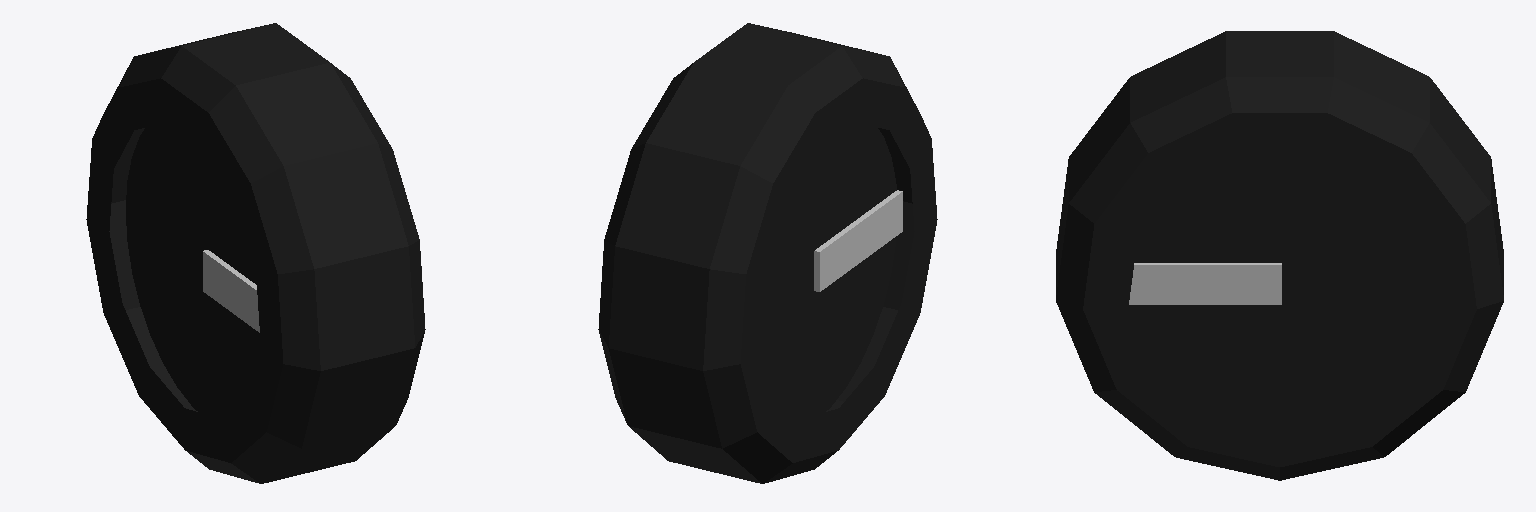
The model's file is CarWheel.obj.
3 renders of one model, left to right at view 1: azimuth 30°, elevation 25°; view 2: azimuth 150°, elevation 25°; view 3: azimuth 270°, elevation 25°, orthographic.
Visible parts, largest first — view 1: Cylinder_4.000_Cylinder_4.003, Cylinder_5.002, Cube_Cube.001; view 2: Cylinder_4.000_Cylinder_4.003, Cylinder_5.002, Cube_Cube.001; view 3: Cylinder_4.000_Cylinder_4.003, Cylinder_5.002, Cube_Cube.001.
Part boxes in pixels (left/top/right/bottom): Cylinder_4.000_Cylinder_4.003: left=86, top=23, right=425, bottom=483; Cylinder_5.002: left=126, top=123, right=259, bottom=417; Cube_Cube.001: left=203, top=250, right=259, bottom=332; Cylinder_4.000_Cylinder_4.003: left=598, top=23, right=937, bottom=483; Cylinder_5.002: left=764, top=123, right=896, bottom=417; Cube_Cube.001: left=814, top=190, right=902, bottom=291; Cylinder_4.000_Cylinder_4.003: left=1056, top=31, right=1503, bottom=480; Cylinder_5.002: left=1129, top=154, right=1430, bottom=425; Cube_Cube.001: left=1129, top=263, right=1281, bottom=304.
Size of the model in its own units: 0.2956 by 0.8025 by 0.8084.